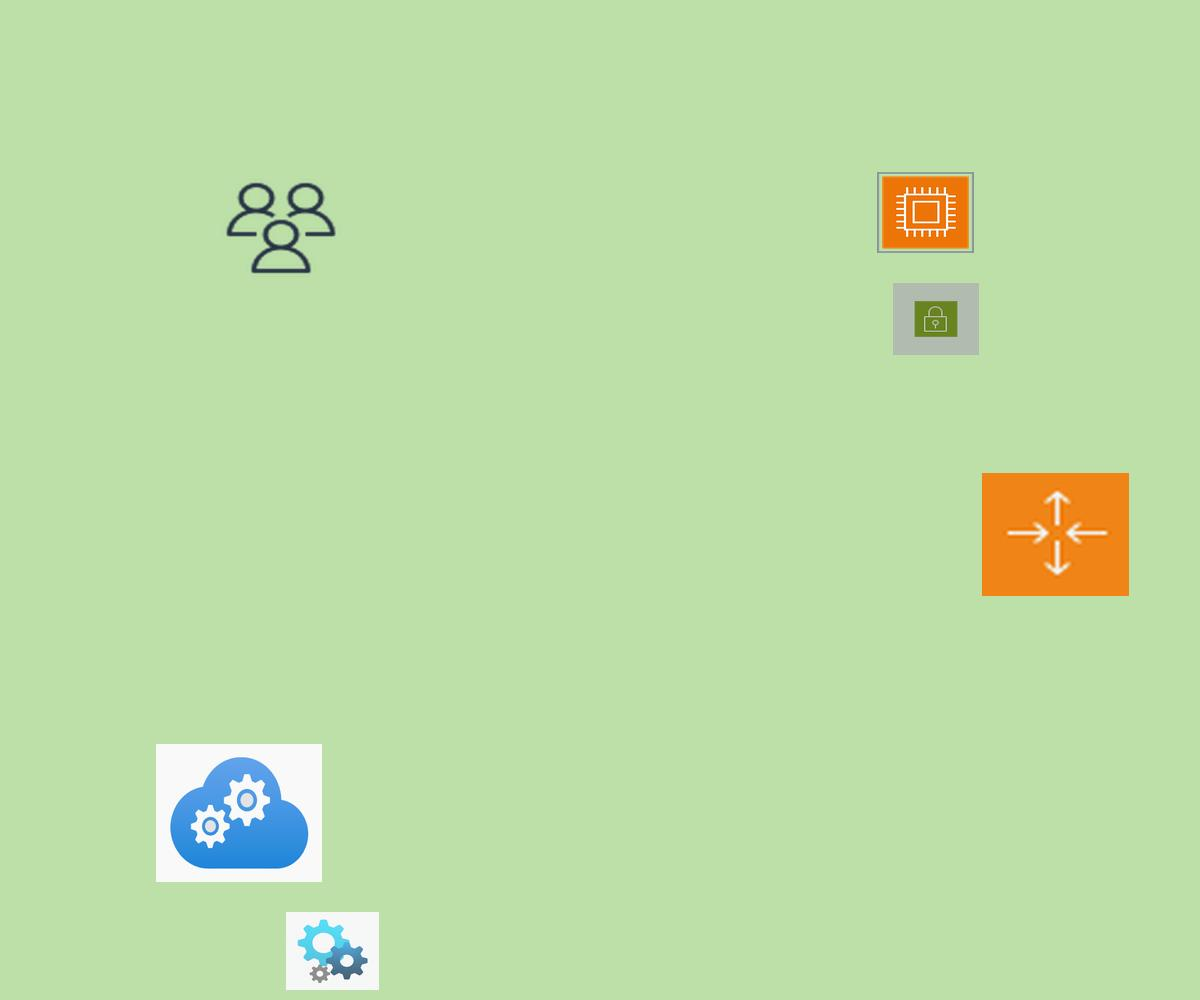AWS-Category_Compute: (877, 172, 974, 253)
AWS-Public-subnet: (893, 283, 979, 355)
AWS-Res_Users: (222, 179, 340, 277)
AWS-Scaling-group: (982, 473, 1129, 596)
Azure_api: (286, 912, 379, 990)
Azure_cloud_services: (156, 744, 322, 882)
